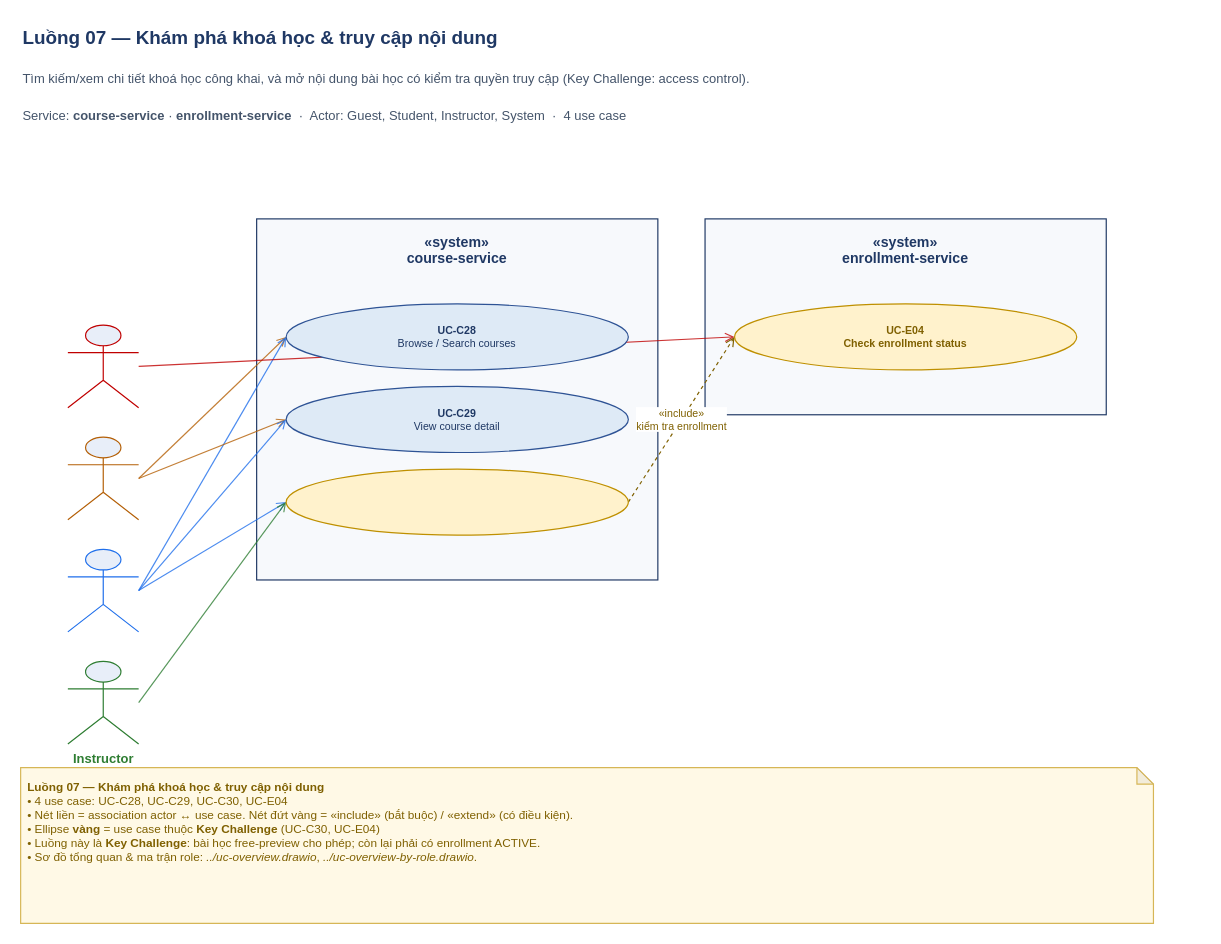
The diagram is 1221 pixels wide and 944 high, and some of its shapes have lost their labels. Here are the shapes that lost their labels. From the top down, the centre of each, then its label:
At (103,366): "System".
At (103,478): "Guest".
At (456,501): "UC-C30 Access lesson content".
At (103,590): "Student".
